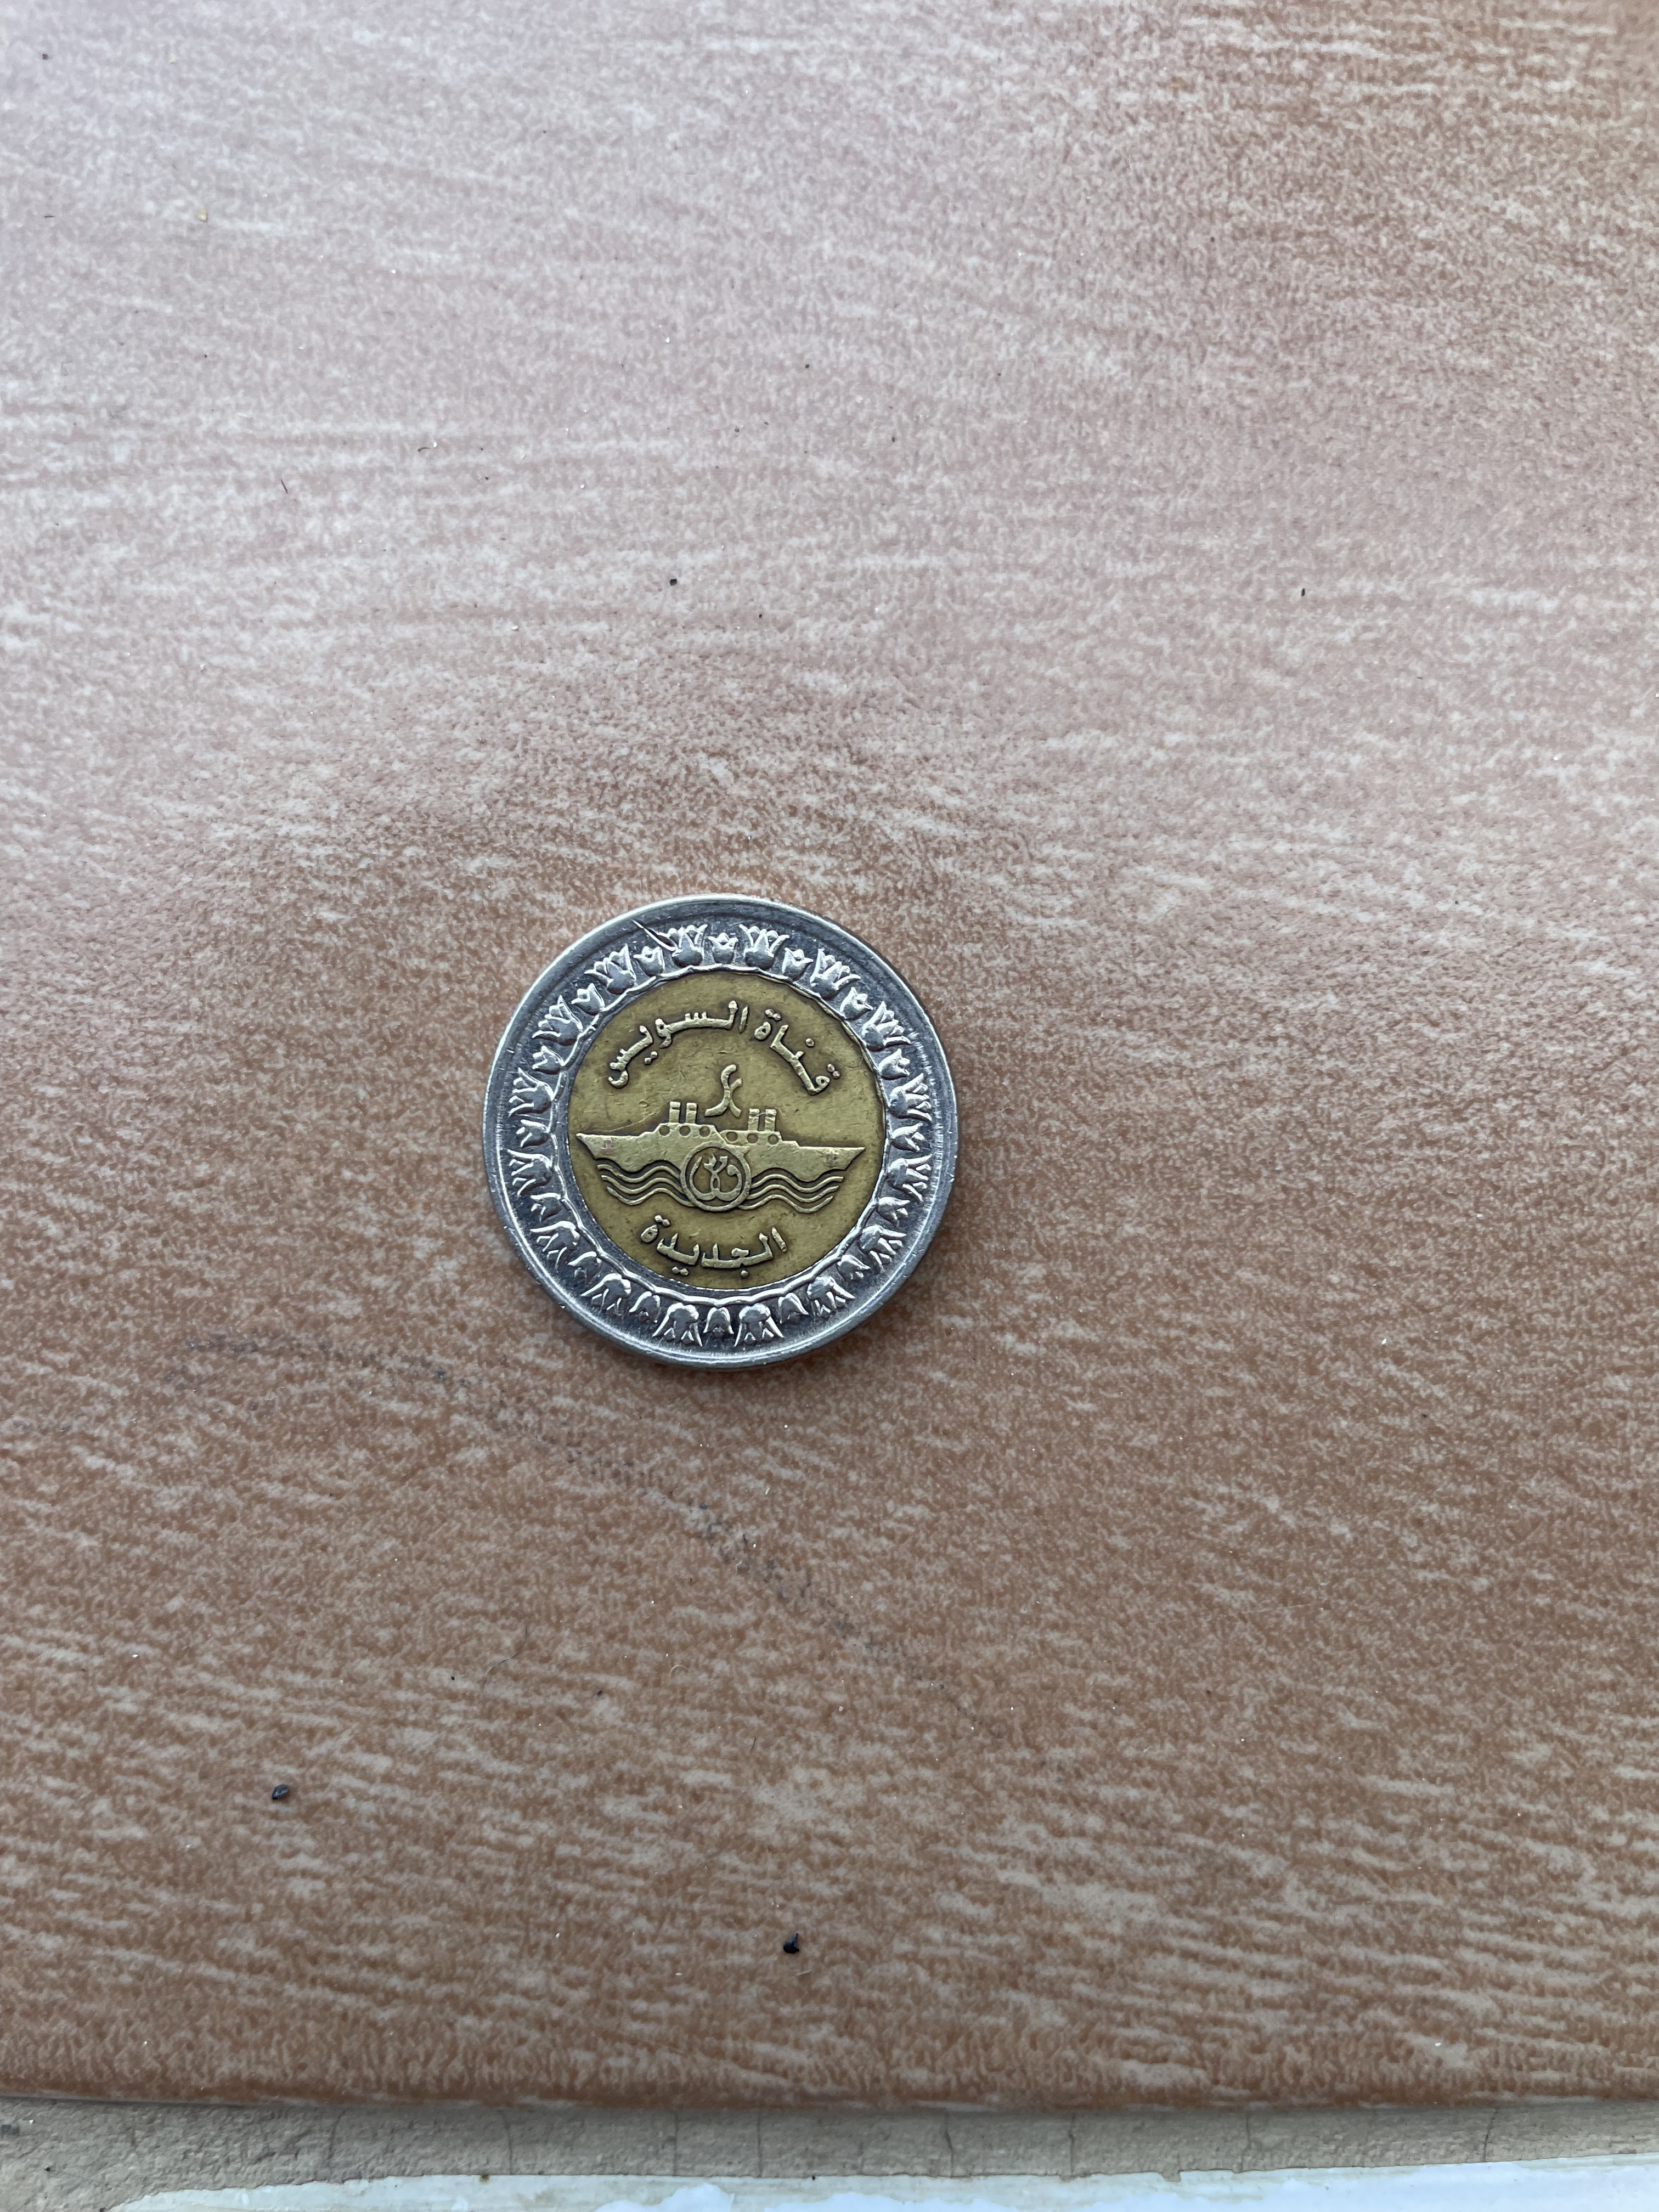one: (472, 885, 972, 1378)
